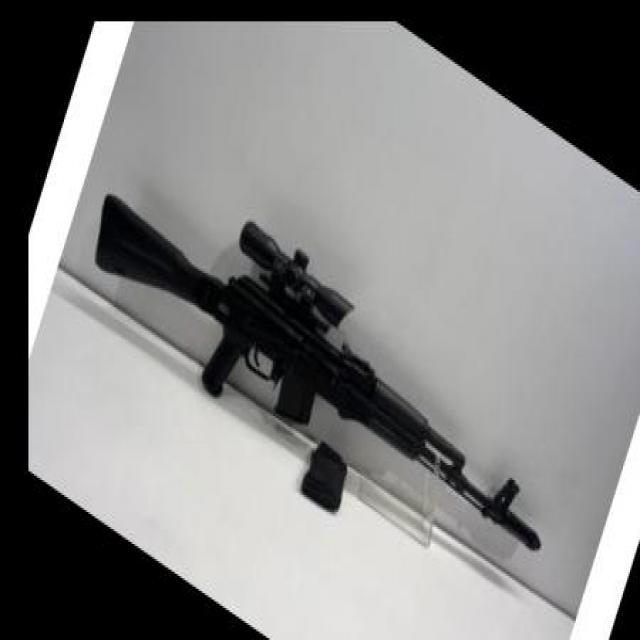weapon: (95, 190, 542, 554)
